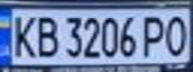0: (100, 14, 121, 58)
2: (78, 12, 103, 60)
3: (60, 12, 84, 59)
6: (118, 12, 142, 59)
B: (30, 12, 60, 59)
K: (6, 11, 39, 60)
O: (160, 11, 193, 57)
P: (139, 11, 172, 58)
